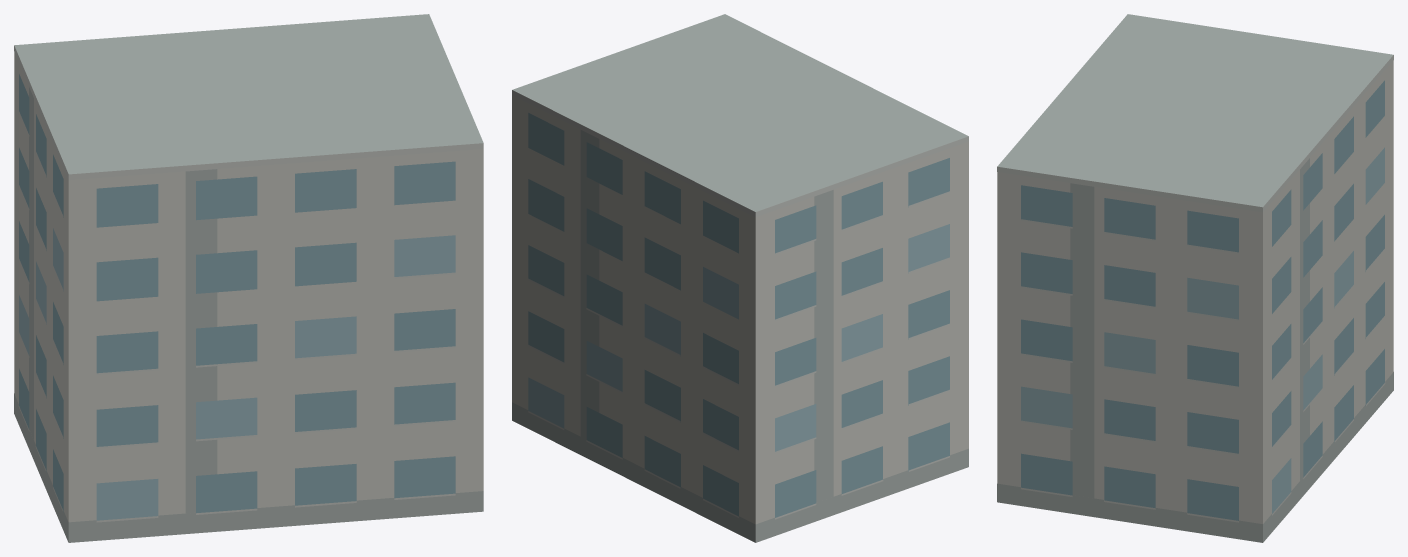
Rendered from residential-c8bda5cb-e854-463f-a681-3efc6eea46a9.glb.
3 renders of one model, left to right at view 1: azimuth 30°, elevation 25°; view 2: azimuth 150°, elevation 25°; view 3: azimuth 270°, elevation 25°, orthographic. The views are drawn at different scales.
Parts seen in each view (by area): view 1: residential-c8bda5cb-e854-463f-a681-3efc6eea46a9.tmp; view 2: residential-c8bda5cb-e854-463f-a681-3efc6eea46a9.tmp; view 3: residential-c8bda5cb-e854-463f-a681-3efc6eea46a9.tmp.
Boxes of the visible parts, left/top/right/bottom form: residential-c8bda5cb-e854-463f-a681-3efc6eea46a9.tmp: left=14, top=14, right=483, bottom=542; residential-c8bda5cb-e854-463f-a681-3efc6eea46a9.tmp: left=512, top=14, right=968, bottom=542; residential-c8bda5cb-e854-463f-a681-3efc6eea46a9.tmp: left=997, top=14, right=1393, bottom=542.
Bounding box in the file's own units: 18.84 × 15.25 × 16.34.
